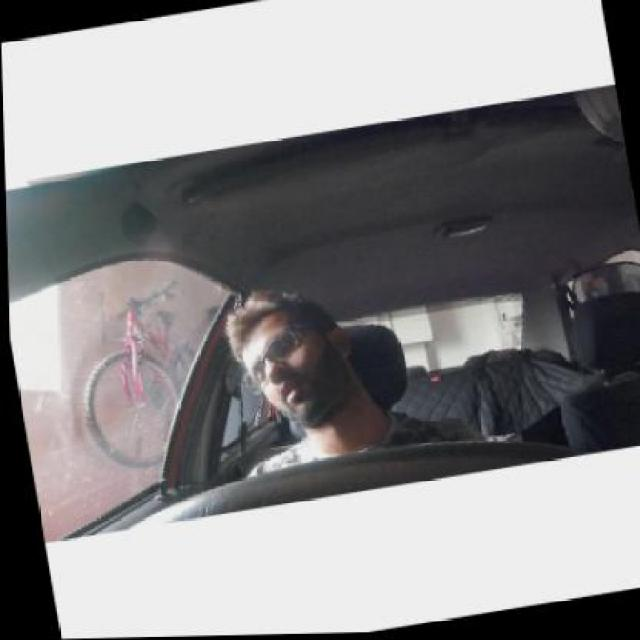drowsy: (220, 283, 362, 438)
